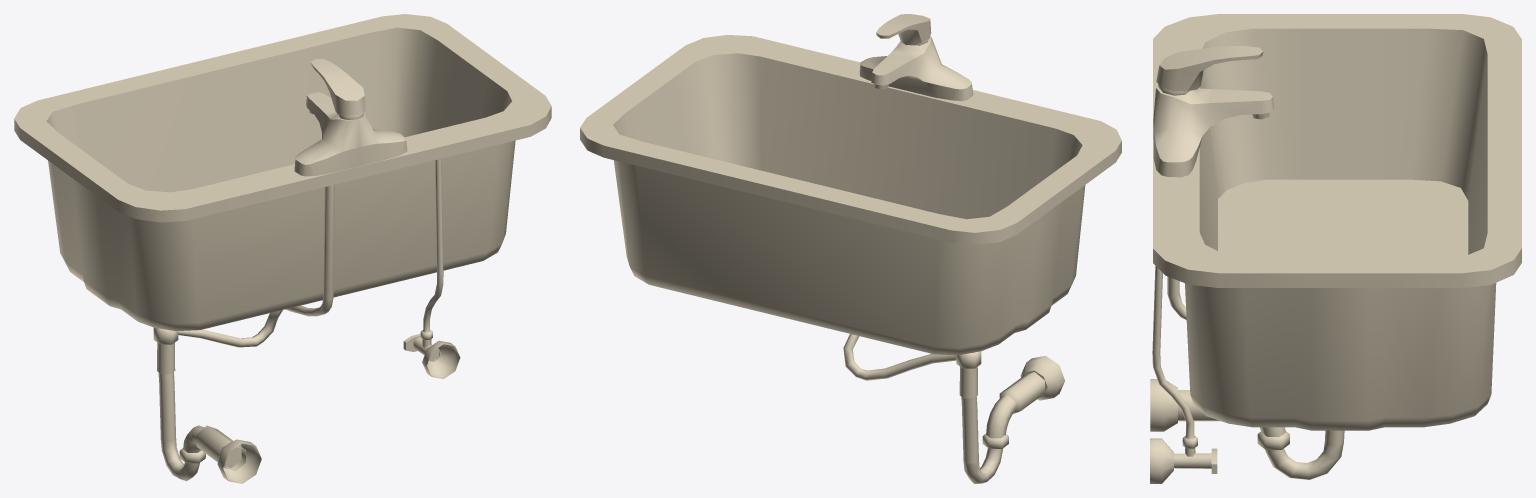
File: Sink_A_Snaps004.FBX
3 views of the same model, side by side, from view 1: azimuth 30°, elevation 25°; view 2: azimuth 150°, elevation 25°; view 3: azimuth 270°, elevation 25° (orthographic). The views are drawn at different scales.
Visible parts, largest first — view 1: Geometry_Sink_A_LOD00; view 2: Geometry_Sink_A_LOD00; view 3: Geometry_Sink_A_LOD00.
Boxes of the visible parts, x1,y1,x2,y2 form: Geometry_Sink_A_LOD00: (14, 14, 551, 483); Geometry_Sink_A_LOD00: (580, 14, 1121, 483); Geometry_Sink_A_LOD00: (1150, 14, 1521, 483).
Size of what is drawn, in the model's own units: 83.01 by 74.76 by 50.31.
